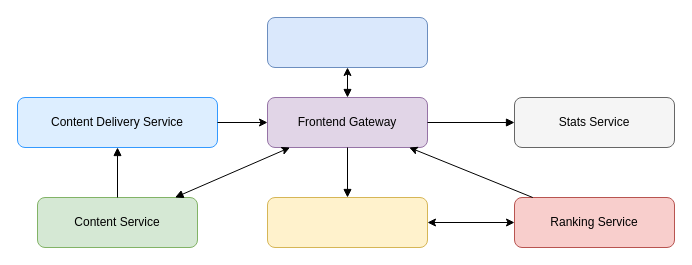
Image size: 692x265. Some labels were removed from this diagram. Each missing label, with the centre of its shape:
Frontend (UI): the point at 347,42
Rating Service: the point at 347,222
